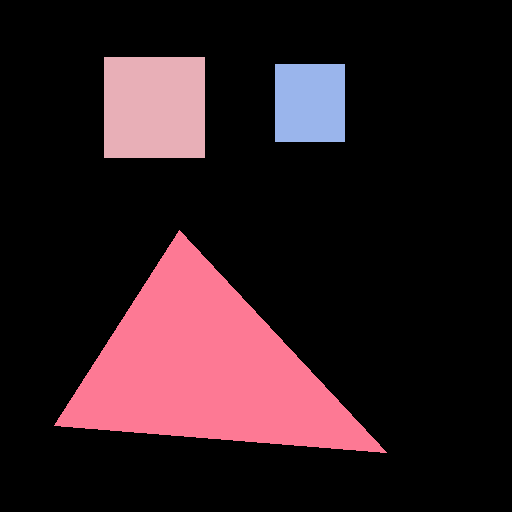rectangle: (275, 64, 344, 141)
square: (104, 57, 204, 157)
triangle: (54, 230, 386, 452)
